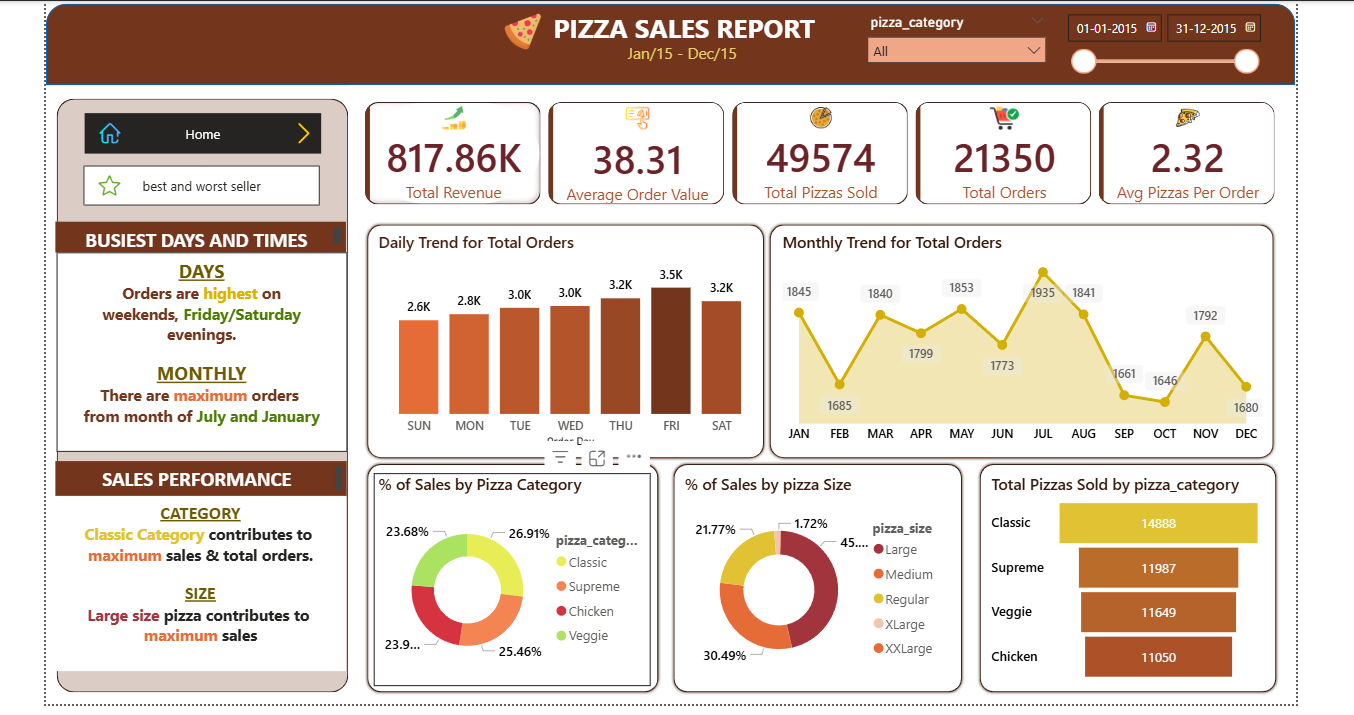

This screenshot's page, from the dashboard's own definition file:
{"tool":"powerbi","page":{"name":"Home","canvas":[1280,720],"ordinal":0},"visuals":[{"type":"shape","box":[11,100,298.6,608.2],"z":0},{"type":"shape","box":[0,2.7,1279.4,83.6],"z":1000},{"type":"textbox","box":[500,4.1,316.4,46.6],"z":2000},{"type":"textbox","box":[590.4,37,137,38.4],"z":3000},{"type":"image","box":[464.3,12.3,47.9,38.4],"z":4000},{"type":"cardVisual","fields":{"Data":["pizza_sales.Total Revenue","pizza_sales.Average Order Value","pizza_sales.Total Pizzas Sold","pizza_sales.Total Orders","pizza_sales.Avg Pizzas Per Order"]},"box":[309.6,86.3,969.8,139.7],"z":5000},{"type":"shape","box":[326,226,412.3,245.2],"z":6000},{"type":"columnChart","title":"Daily Trend for Total Orders","fields":{"Category":["pizza_sales.Order Day"],"Y":["pizza_sales.Total Orders"]},"box":[335.6,235.6,402.7,226],"z":7000},{"type":"shape","box":[738.3,226,521.9,245.2],"z":8000},{"type":"areaChart","title":"Monthly Trend for Total Orders","fields":{"Category":["pizza_sales.Order Month"],"Y":["pizza_sales.Total Orders"]},"box":[749.3,235.6,501.3,226],"z":9000},{"type":"shape","box":[326,471.2,304.1,239.7],"z":10000},{"type":"shape","box":[639.7,471.2,301.3,239.7],"z":11000},{"type":"shape","box":[953.4,471.2,309.6,239.7],"z":12000},{"type":"donutChart","title":"% of Sales by Pizza Category","fields":{"Category":["pizza_sales.pizza_category"],"Y":["pizza_sales.Total Revenue"]},"box":[335.6,483.5,283.5,217.8],"z":13000},{"type":"donutChart","title":"% of Sales by pizza Size","fields":{"Category":["pizza_sales.pizza_size"],"Y":["pizza_sales.Total Revenue"]},"box":[649.3,483.5,282.2,217.8],"z":14000},{"type":"funnel","fields":{"Category":["pizza_sales.pizza_category"],"Y":["pizza_sales.Total Pizzas Sold"]},"box":[962.9,483.5,287.6,217.8],"z":15000},{"type":"textbox","box":[9.6,226,297.2,31.5],"z":16000},{"type":"textbox","box":[11,257.5,297.2,204.1],"z":17000},{"type":"textbox","box":[9.6,471.2,298.6,35.6],"z":18000},{"type":"textbox","box":[9.6,506.8,297.2,179.4],"z":19000},{"type":"slicer","fields":{"Values":["pizza_sales.pizza_category"]},"box":[831.4,8.2,202.7,64.4],"z":20000},{"type":"slicer","fields":{"Values":["pizza_sales.order_date"]},"box":[1034.2,4.1,216.4,71.2],"z":21000},{"type":"pageNavigator","box":[39.7,115.1,242.4,41.1],"z":22000},{"type":"pageNavigator","box":[38.4,168.5,242.4,41.1],"z":23000},{"type":"image","box":[39.7,124.6,52.1,21.9],"z":24000},{"type":"image","box":[49.3,178.1,31.5,21.9],"z":25000},{"type":"image","box":[246.6,124.6,35.6,21.9],"z":26000}]}

Visuals, with their boxes on the page's 1280x720 design canvas (x1, y1, x2, y2). These are canvas units, not pixel positions in the 1354x715 screenshot, which may show the page scaled, cropped or inside an application window:
shape: 11, 100, 310, 708
shape: 0, 3, 1279, 86
textbox: 500, 4, 816, 51
textbox: 590, 37, 727, 75
image: 464, 12, 512, 51
cardVisual - pizza_sales.Total Revenue x pizza_sales.Average Order Value: 310, 86, 1279, 226
shape: 326, 226, 738, 471
"Daily Trend for Total Orders" columnChart: 336, 236, 738, 462
shape: 738, 226, 1260, 471
"Monthly Trend for Total Orders" areaChart: 749, 236, 1251, 462
shape: 326, 471, 630, 711
shape: 640, 471, 941, 711
shape: 953, 471, 1263, 711
"% of Sales by Pizza Category" donutChart: 336, 484, 619, 701
"% of Sales by pizza Size" donutChart: 649, 484, 932, 701
funnel - pizza_sales.pizza_category x pizza_sales.Total Pizzas Sold: 963, 484, 1250, 701
textbox: 10, 226, 307, 258
textbox: 11, 258, 308, 462
textbox: 10, 471, 308, 507
textbox: 10, 507, 307, 686
slicer - pizza_sales.pizza_category: 831, 8, 1034, 73
slicer - pizza_sales.order_date: 1034, 4, 1251, 75
pageNavigator: 40, 115, 282, 156
pageNavigator: 38, 168, 281, 210
image: 40, 125, 92, 146
image: 49, 178, 81, 200
image: 247, 125, 282, 146
